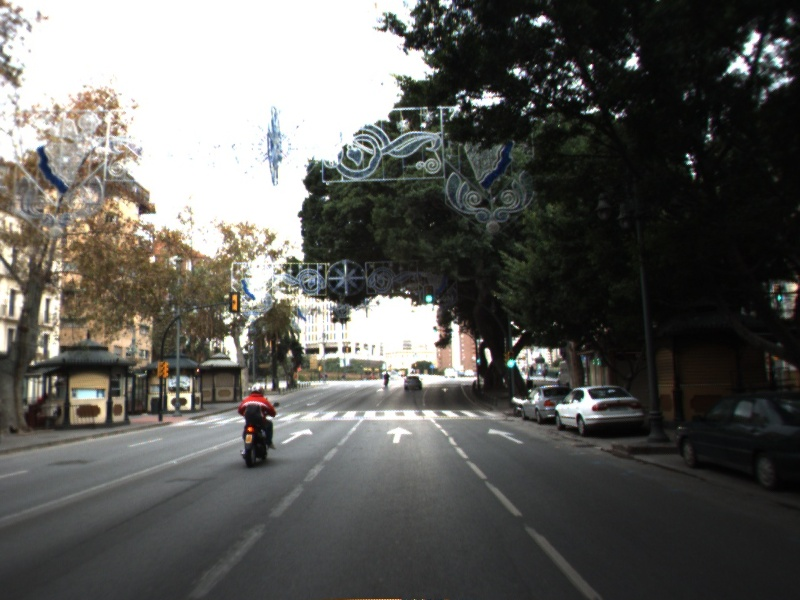STRAIGHT: (485, 425, 528, 446), (278, 426, 315, 446), (384, 424, 415, 445)
